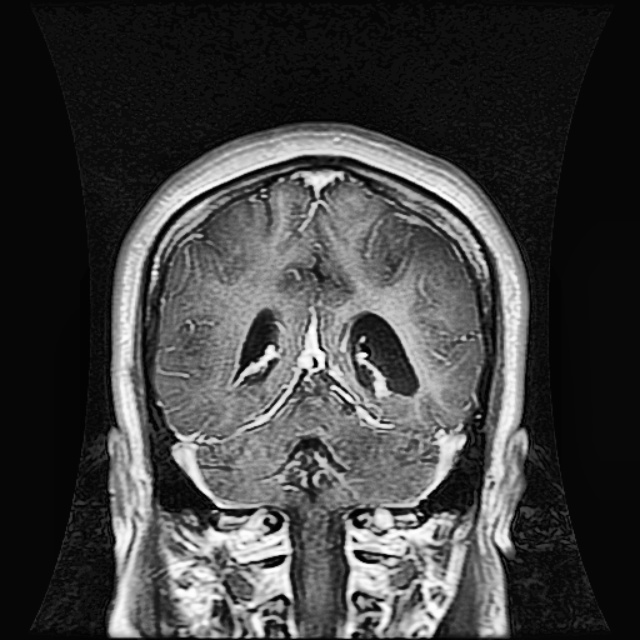Meningioma: (345, 309, 415, 394)
